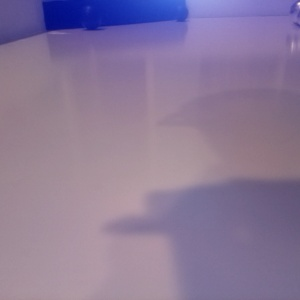dead_ball: (154, 42, 273, 162), (287, 125, 300, 188)
